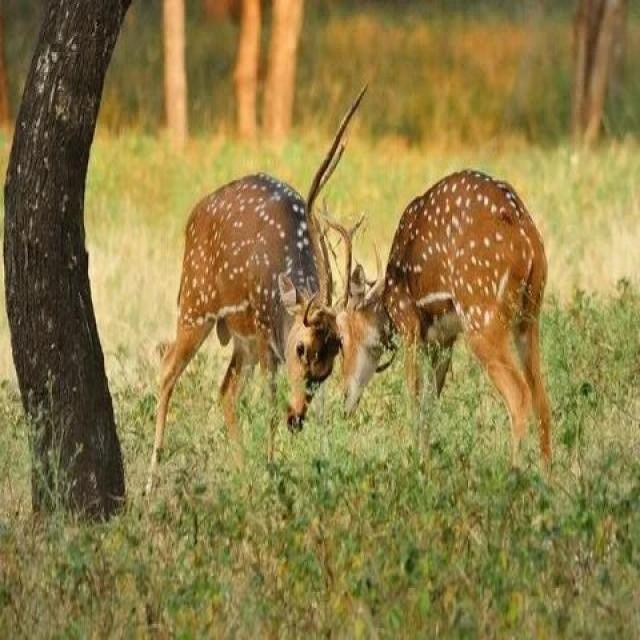deer: (115, 76, 352, 524), (296, 144, 572, 483)
